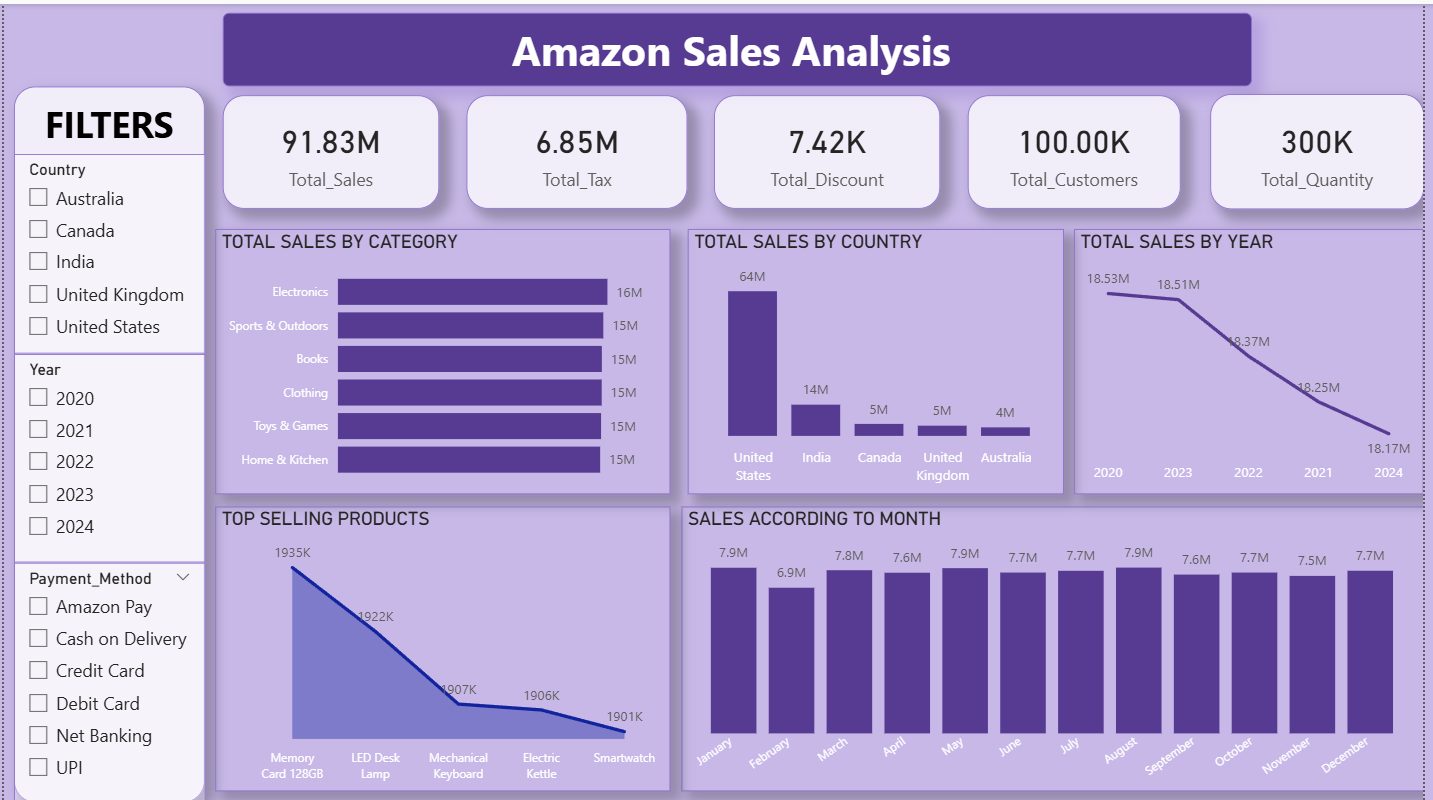

What the dashboard file says about the page in this screenshot:
{"tool":"powerbi","page":{"name":"Page 1","canvas":[1280,720],"ordinal":0},"visuals":[{"type":"textbox","box":[197.7,8.1,927.9,66.3],"z":0},{"type":"card","fields":{"Values":["Sum(Amazon.TotalAmount)"]},"box":[197.2,82.3,195,102.6],"z":1000},{"type":"textbox","box":[9.3,74.4,172.1,645.4],"z":2000},{"type":"slicer","fields":{"Values":["Amazon.Country"]},"box":[9,135.3,172.4,180.3],"z":3000},{"type":"slicer","fields":{"Values":["Amazon.Year"]},"box":[9,315.6,172.4,188.2],"z":4000},{"type":"slicer","fields":{"Values":["Amazon.PaymentMethod"]},"box":[9,503.8,172.4,216.4],"z":5000},{"type":"card","fields":{"Values":["Sum(Amazon.Tax)"]},"box":[417,82.3,199.5,102.6],"z":6000},{"type":"card","fields":{"Values":["Sum(Amazon.Discount)"]},"box":[640.2,82.3,204,102.6],"z":7000},{"type":"card","fields":{"Values":["CountNonNull(Amazon.CustomerID)"]},"box":[869,82.3,191.6,102.6],"z":8000},{"type":"card","fields":{"Values":["Sum(Amazon.Quantity)"]},"box":[1087.7,81.2,192.7,103.7],"z":9000},{"type":"barChart","title":"TOTAL SALES BY CATEGORY","fields":{"Y":["Amazon.Total_sales"],"Category":["Amazon.Category"]},"box":[190.5,202.9,410.3,238.9],"z":10000},{"type":"columnChart","title":"TOTAL SALES BY COUNTRY","fields":{"Y":["Amazon.Total_sales"],"Category":["Amazon.Country"]},"box":[616.5,202.9,339.3,238.9],"z":11000},{"type":"lineChart","title":"TOTAL SALES BY YEAR","fields":{"Y":["Sum(Amazon.TotalAmount)"],"Category":["Amazon.Year"]},"box":[964.8,202.9,315.6,238.9],"z":12000},{"type":"columnChart","title":"SALES ACCORDING TO MONTH","fields":{"Category":["Amazon.OrderDate.Variation.Date Hierarchy.Month"],"Y":["Amazon.Total_sales"]},"box":[610.9,453.1,669.5,257],"z":13000},{"type":"lineChart","title":"TOP SELLING PRODUCTS","fields":{"Category":["Amazon.ProductName"],"Y":["Amazon.Total_sales"]},"box":[190.5,453.1,410.3,257],"z":14000}]}

Visuals, with their boxes in screenshot pixels (x1, y1, x2, y2), scaled from the page's 1280x720 canvas onto the 1433x800 screenshot:
textbox: region(221, 9, 1260, 83)
card - Sum(Amazon.TotalAmount): region(221, 91, 439, 205)
textbox: region(10, 83, 203, 799)
slicer - Amazon.Country: region(10, 150, 203, 351)
slicer - Amazon.Year: region(10, 351, 203, 560)
slicer - Amazon.PaymentMethod: region(10, 560, 203, 799)
card - Sum(Amazon.Tax): region(467, 91, 690, 205)
card - Sum(Amazon.Discount): region(717, 91, 945, 205)
card - CountNonNull(Amazon.CustomerID): region(973, 91, 1187, 205)
card - Sum(Amazon.Quantity): region(1218, 90, 1432, 205)
"TOTAL SALES BY CATEGORY" barChart: region(213, 225, 673, 491)
"TOTAL SALES BY COUNTRY" columnChart: region(690, 225, 1070, 491)
"TOTAL SALES BY YEAR" lineChart: region(1080, 225, 1432, 491)
"SALES ACCORDING TO MONTH" columnChart: region(684, 503, 1432, 789)
"TOP SELLING PRODUCTS" lineChart: region(213, 503, 673, 789)
